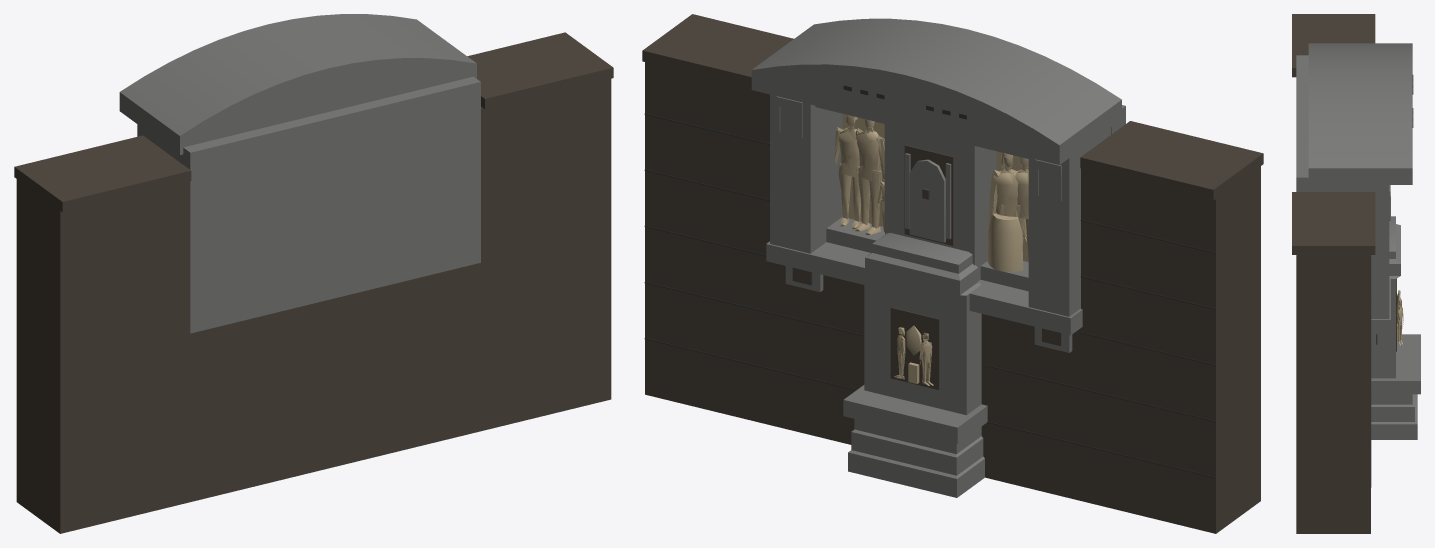
The model's file is mon_schiller_koerner.glb.
The picture shows the model from 3 angles, left to right: view 1: azimuth 30°, elevation 25°; view 2: azimuth 150°, elevation 25°; view 3: azimuth 270°, elevation 25°; orthographic projection. The views are drawn at different scales.
Parts seen in each view (by area): view 1: mon_schiller_koerner; view 2: mon_schiller_koerner; view 3: mon_schiller_koerner.
Boxes of the visible parts, left/top/right/bottom form: mon_schiller_koerner: left=14, top=14, right=613, bottom=533; mon_schiller_koerner: left=642, top=14, right=1263, bottom=533; mon_schiller_koerner: left=1292, top=14, right=1420, bottom=533.
Bounding box in the file's own units: 6.6 × 4.5 × 1.55.
